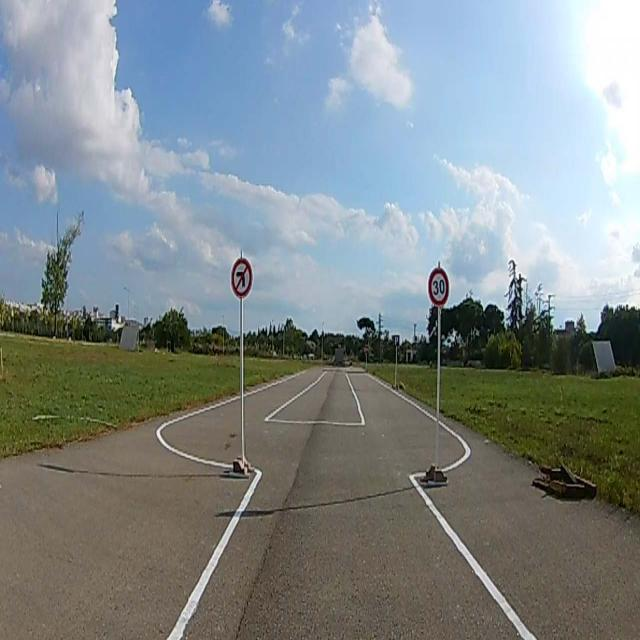30: (428, 268, 449, 305)
soladonulmez: (231, 258, 251, 294)
